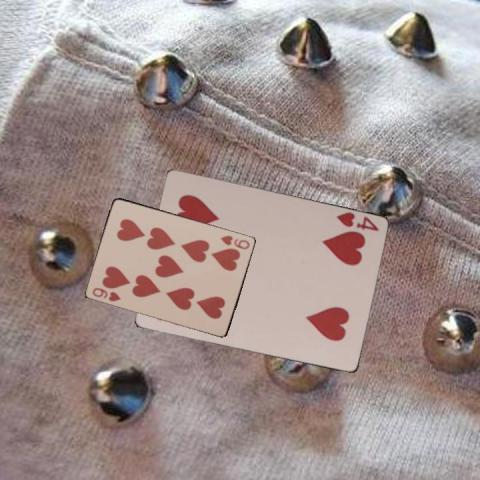4h: (333, 209, 380, 233)
9h: (218, 232, 251, 251), (89, 284, 123, 302)
